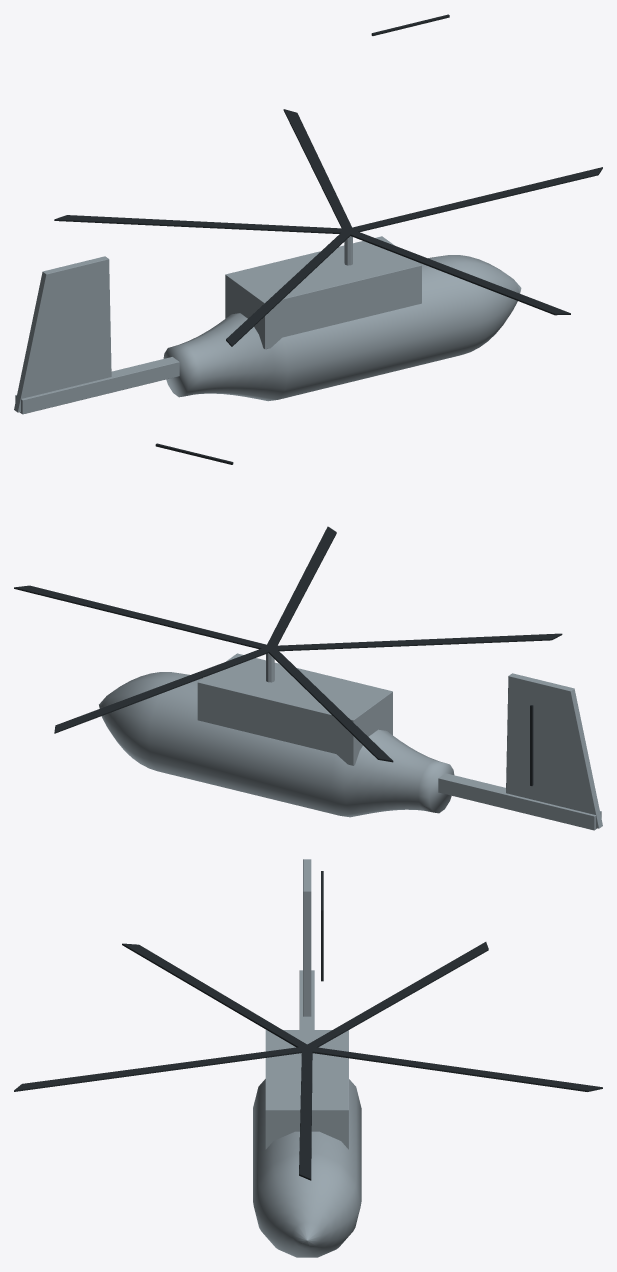
The model's file is rn_helo_merlin_hm2.glb.
3 renders of one model, top to bottom at view 1: azimuth 30°, elevation 25°; view 2: azimuth 150°, elevation 25°; view 3: azimuth 270°, elevation 25°, orthographic. The views are drawn at different scales.
Visible parts, largest first — view 1: rn_helo_merlin_hm2; view 2: rn_helo_merlin_hm2; view 3: rn_helo_merlin_hm2.
Boxes of the visible parts, left/top/right/bottom form: rn_helo_merlin_hm2: left=14, top=14, right=602, bottom=414; rn_helo_merlin_hm2: left=14, top=443, right=602, bottom=830; rn_helo_merlin_hm2: left=14, top=859, right=602, bottom=1257.
Size of the model in its own units: 10 by 5.35 by 8.27.
